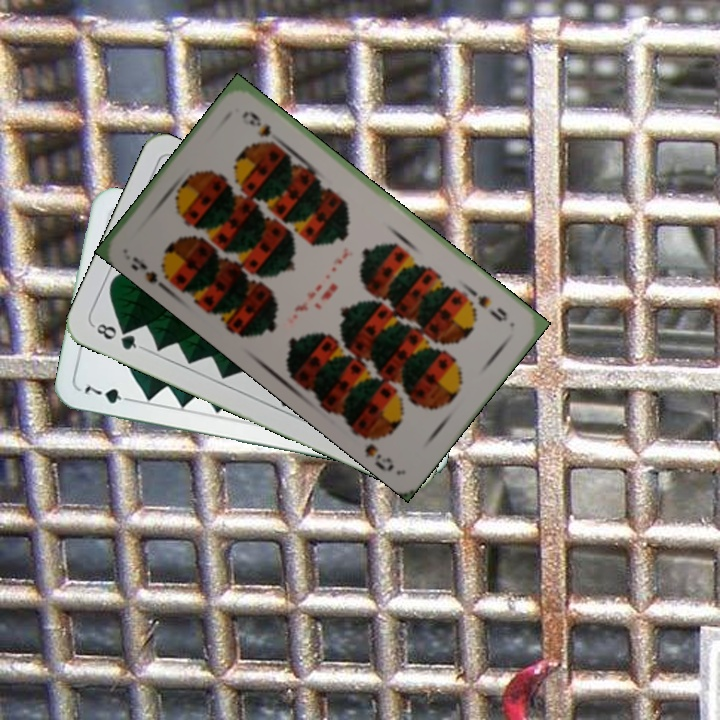G7: (80, 381, 137, 407)
G8: (89, 319, 145, 353)
S9: (126, 252, 177, 295), (463, 285, 510, 325)
